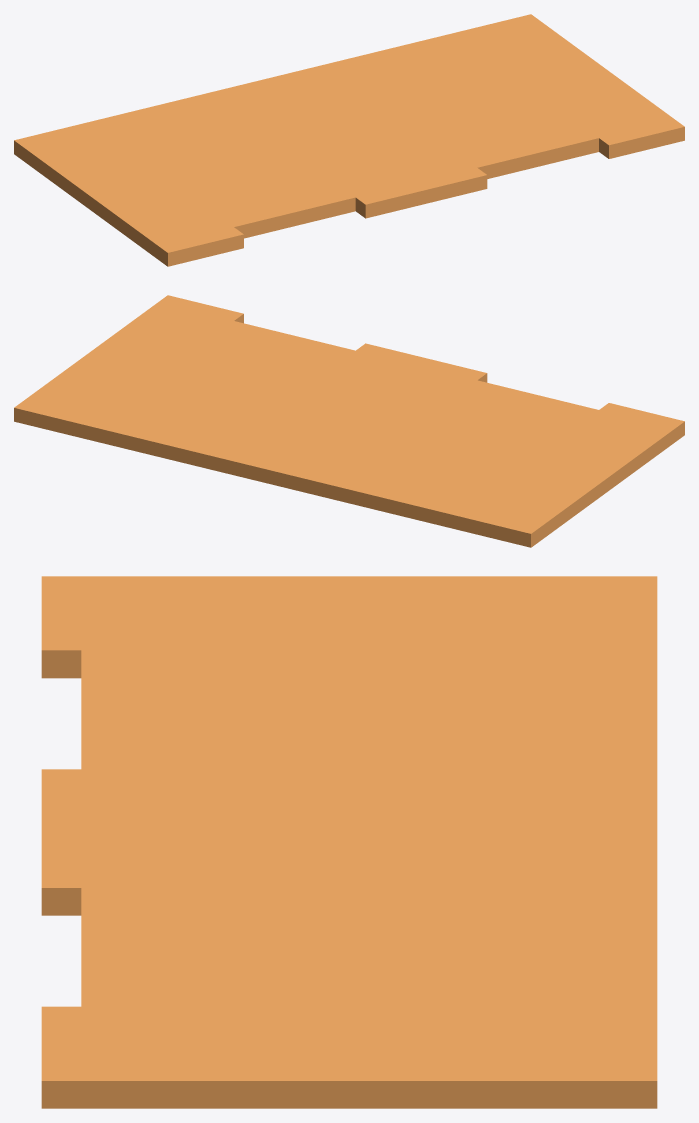
Rendered from original-23.obj.
The picture shows the model from 3 angles, top to bottom: view 1: azimuth 30°, elevation 25°; view 2: azimuth 150°, elevation 25°; view 3: azimuth 270°, elevation 25°; orthographic projection. The views are drawn at different scales.
Visible parts, largest first — view 1: #ID159; view 2: #ID159; view 3: #ID159.
Part boxes in pixels (x1=…): #ID159: x1=14, y1=14, x2=684, y2=266; #ID159: x1=14, y1=295, x2=684, y2=547; #ID159: x1=41, y1=576, x2=657, y2=1108.
Size of the model in its own units: 0.1733 by 0.00444 by 0.0893.
